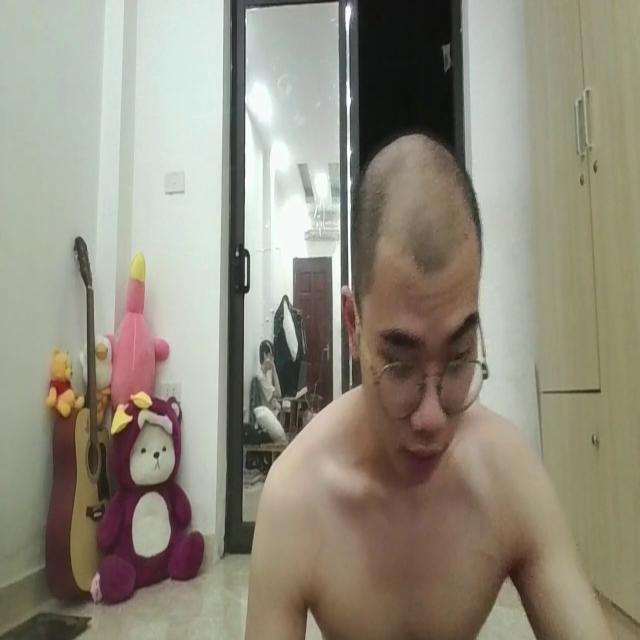extra_person: (251, 309, 295, 425)
student: (249, 113, 611, 640)
